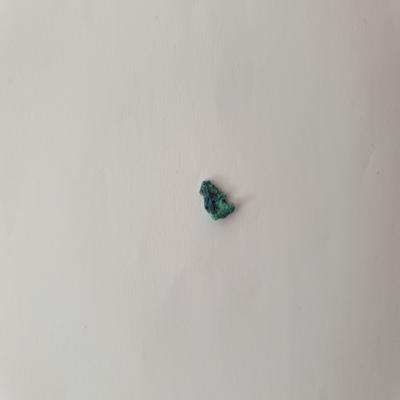plastic: (196, 179, 238, 222)
